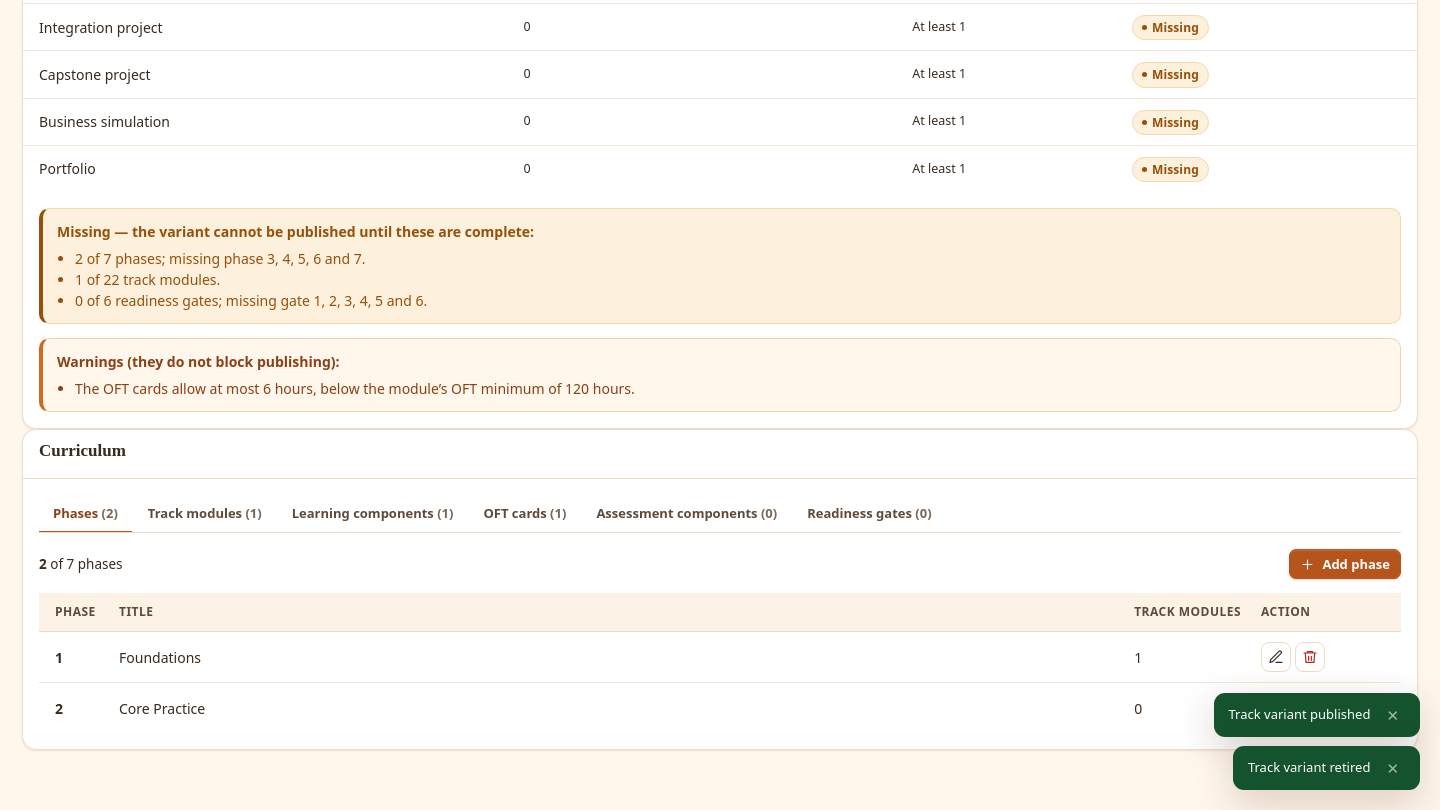
Test: <TrackVariantView> › adds a phase through the dialog: field messages, the server’s 409 on the field, then the payload
This screenshot has width=1440, height=810.
(page scrolled)
Click the button "Add phase" at (1345, 564), box [1289,549,1401,579]
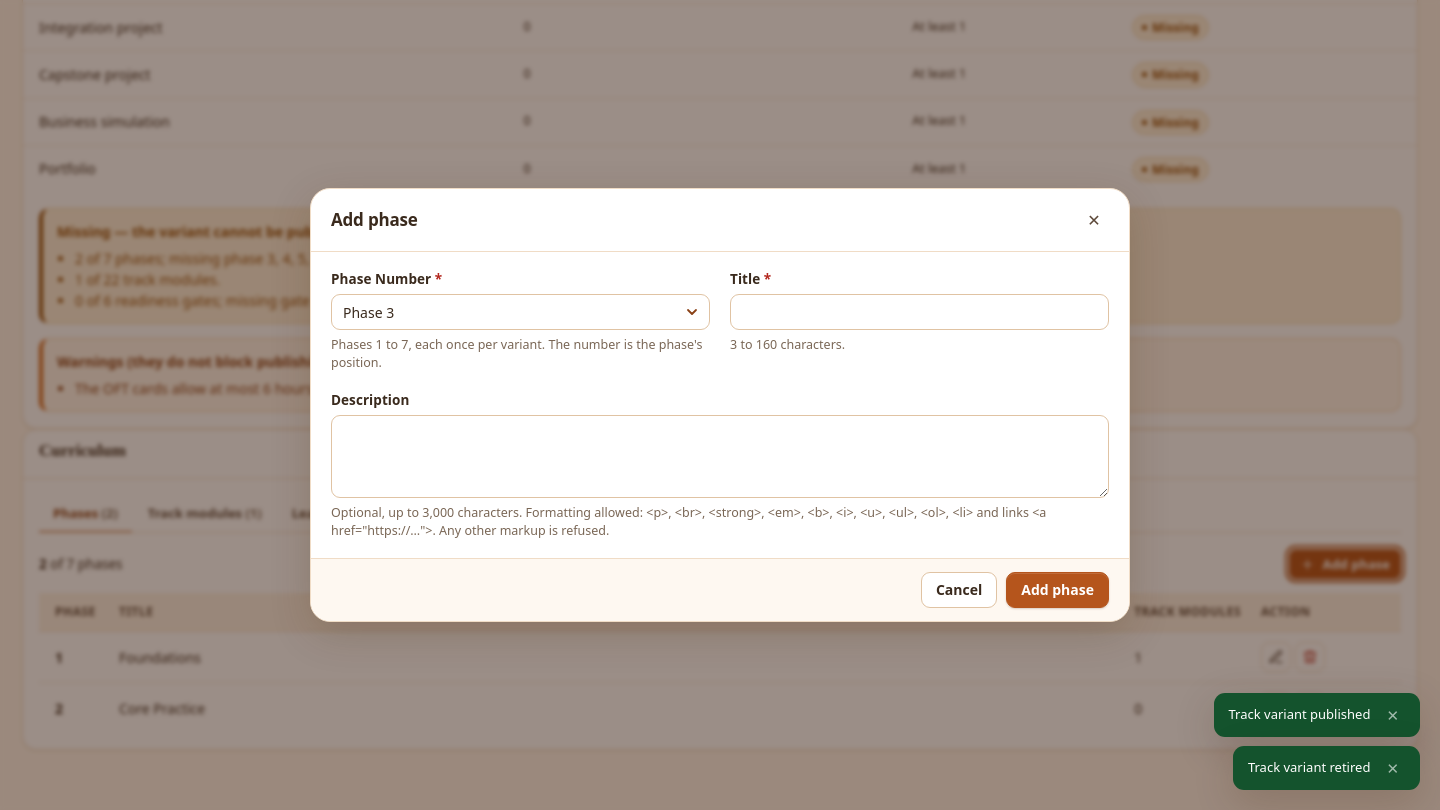
Result: the dropdown labelled "Phase Number *" shows "Phase 3" at [331,294,710,330]
Type "ab" into the field labelled "Title *" at (920, 312), box [730,294,1109,330]
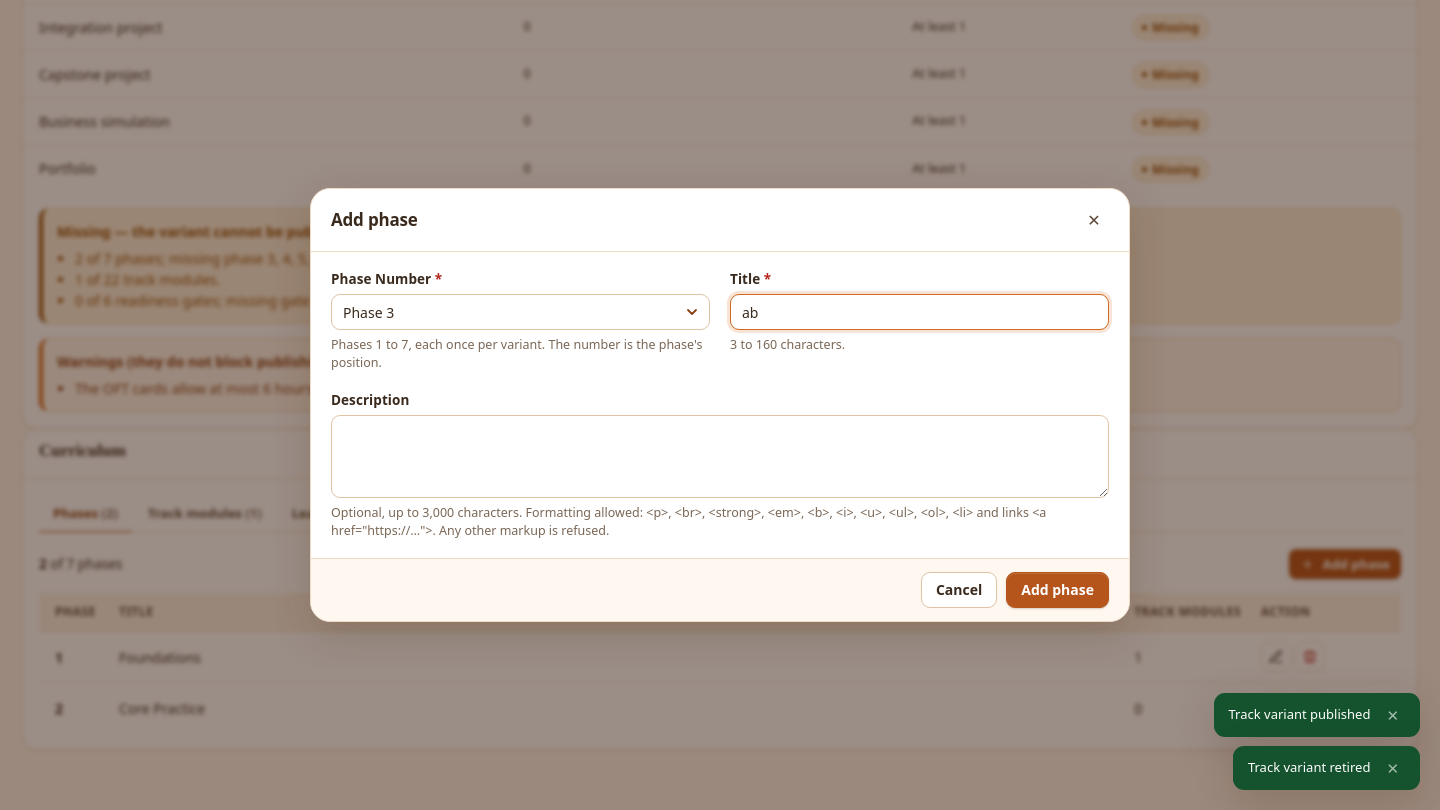
Click the button "Add phase" at (1058, 590), box [1006,572,1109,608]
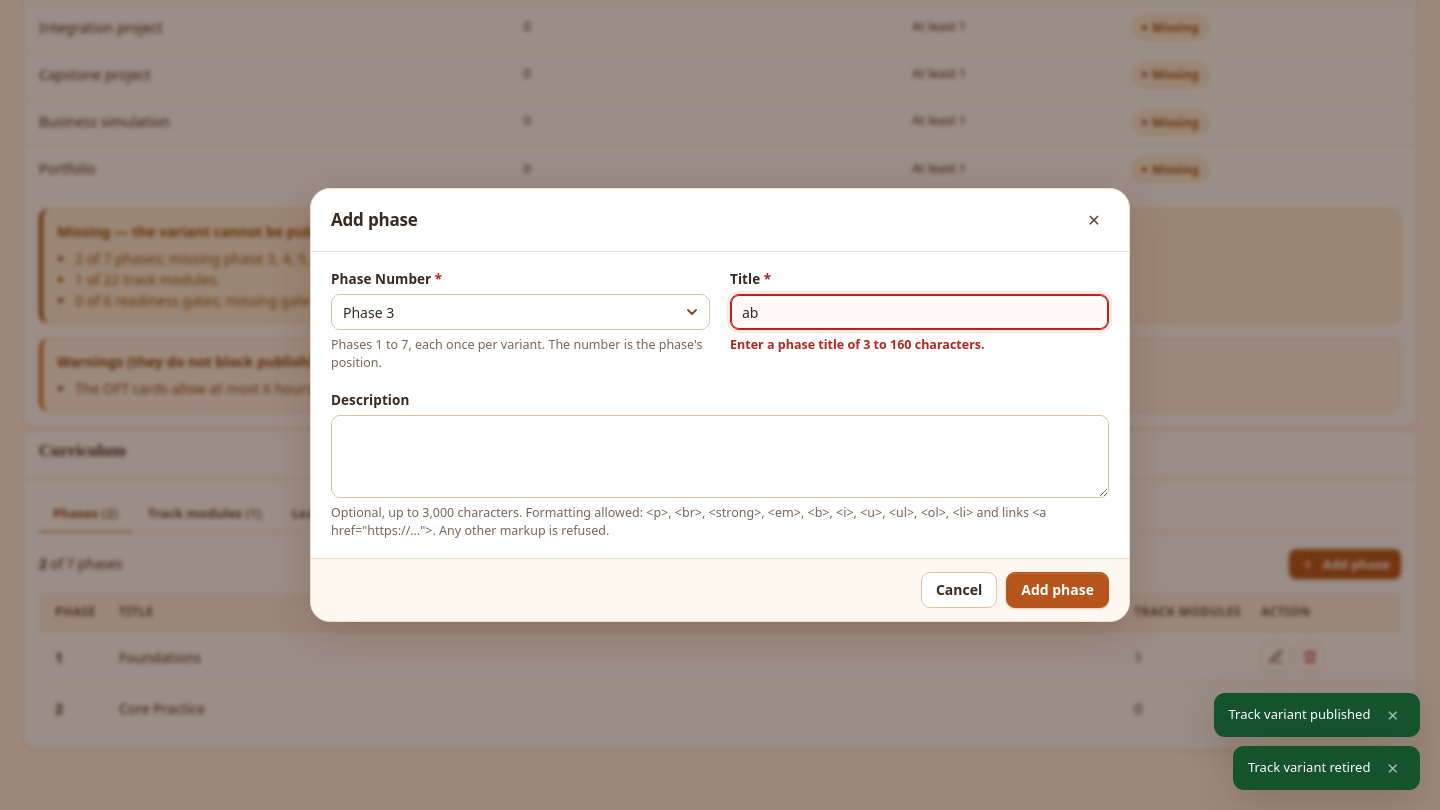
Result: the text "Enter a phase title of 3 to 160 characters." is shown at [730,336,985,353]
Type "c Integration" into the field labelled "Title *" at (920, 312), box [730,294,1109,330]
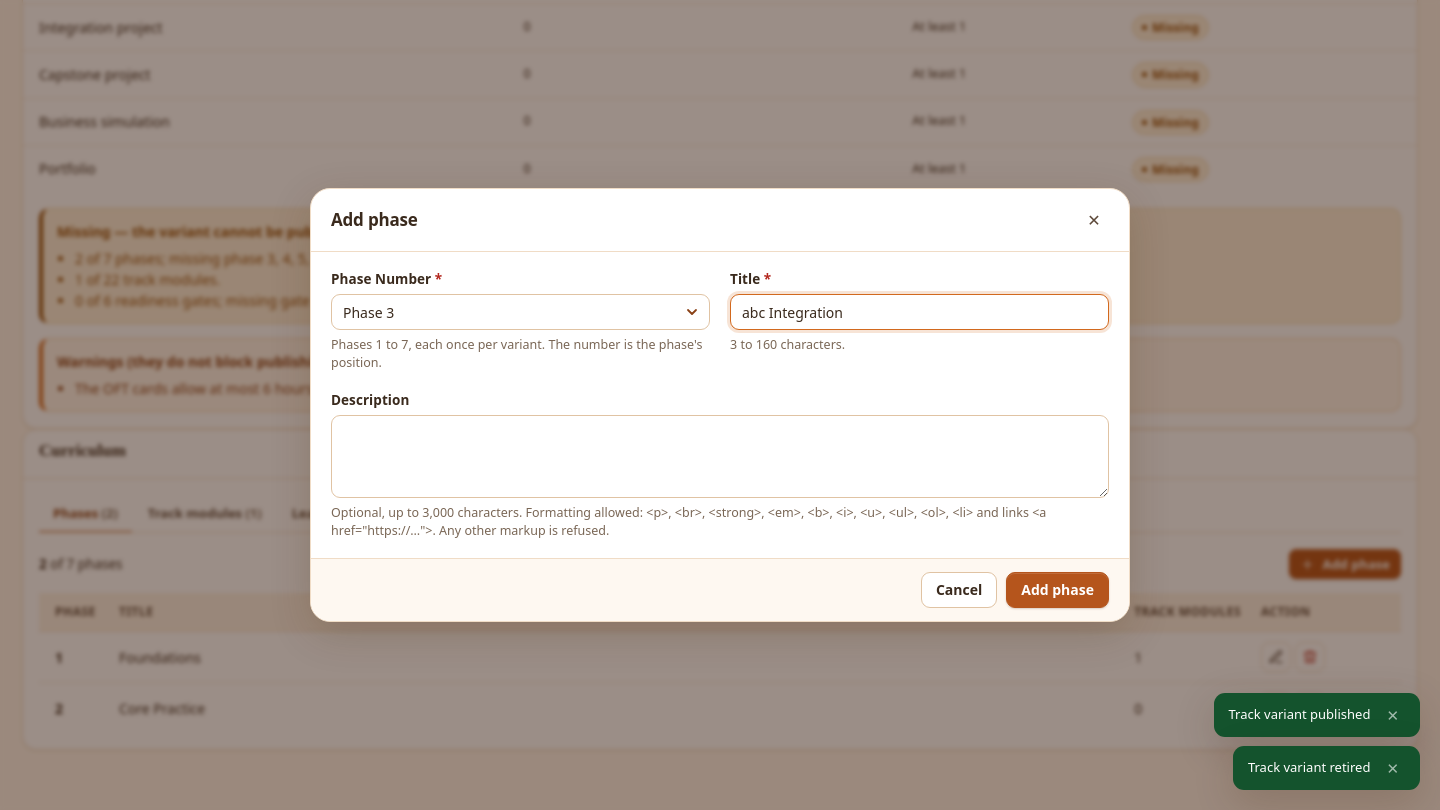
Click the button "Add phase" at (1058, 590), box [1006,572,1109,608]
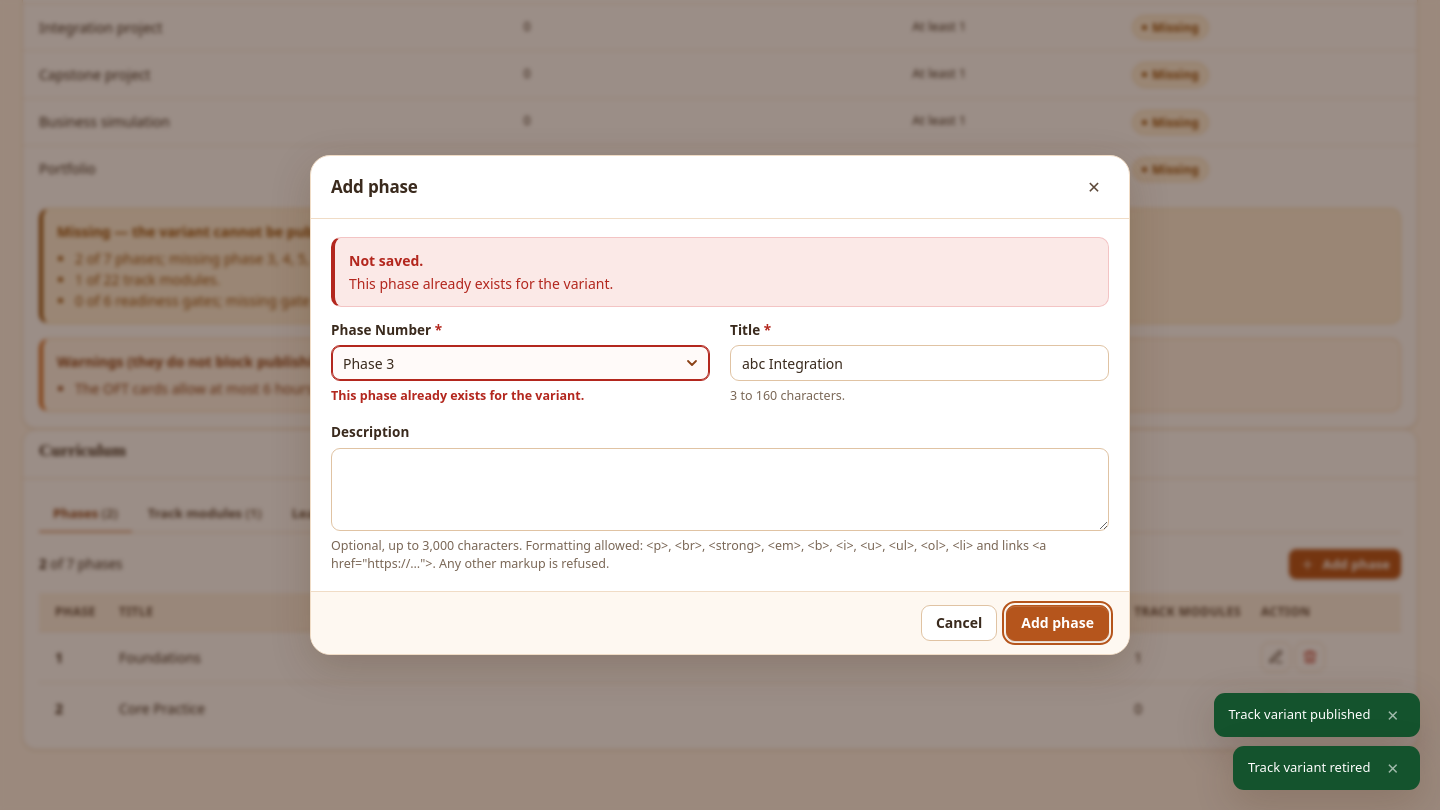
Result: the dropdown labelled "Phase Number *" is marked as invalid at [331,345,710,381]
Click the button "Add phase" at (1058, 623), box [1006,605,1109,641]
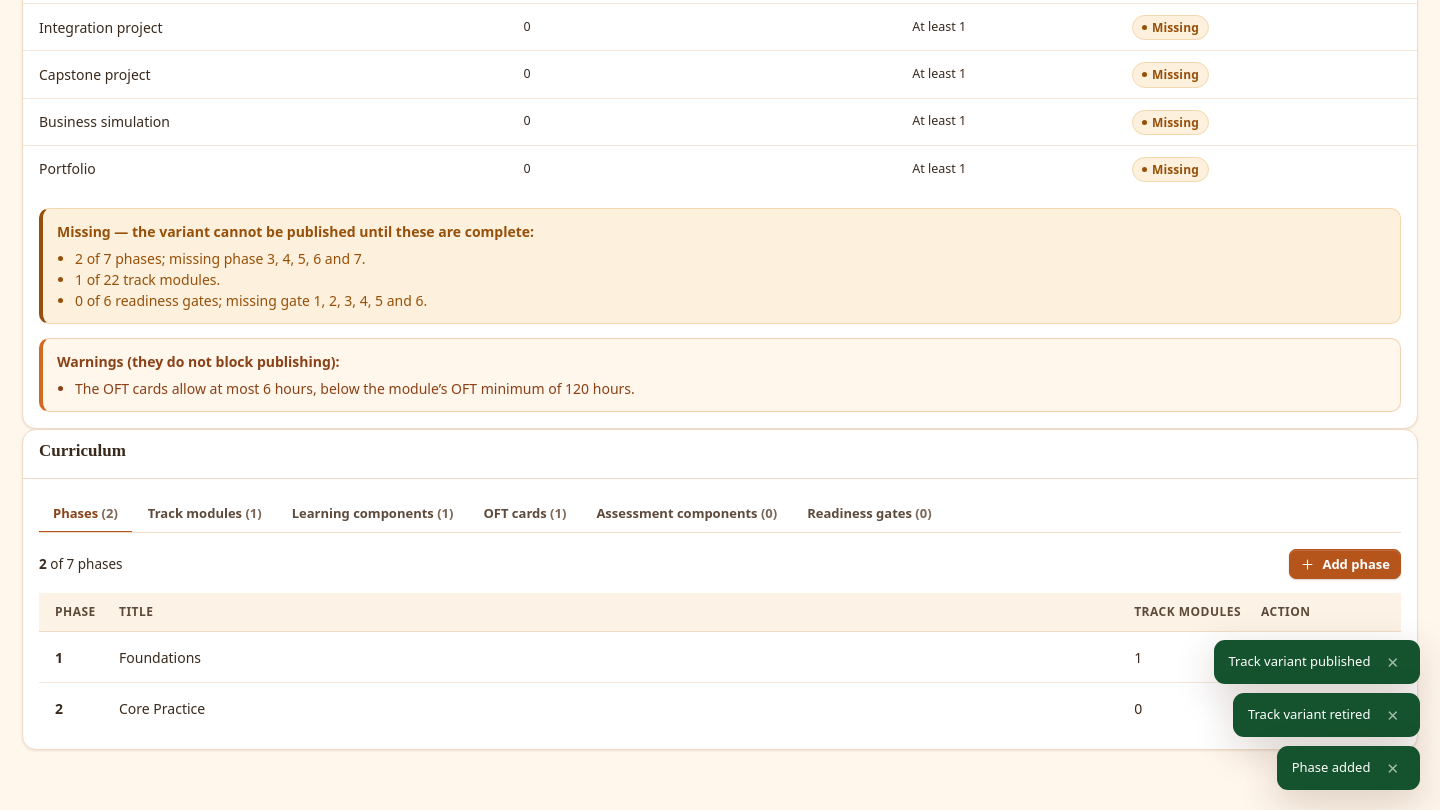
Result: the dialog is gone
